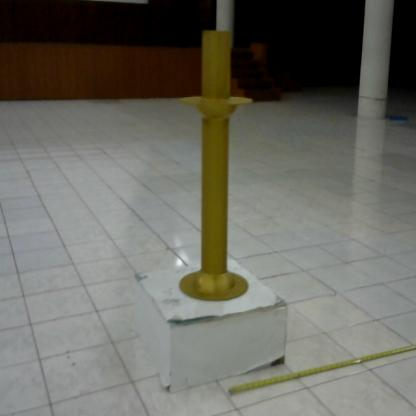pole: (176, 21, 265, 310)
